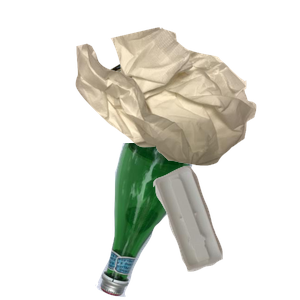glass: (93, 143, 284, 300)
metal: (102, 60, 252, 169)
plastic: (150, 163, 300, 300)
trash: (73, 25, 300, 183)
